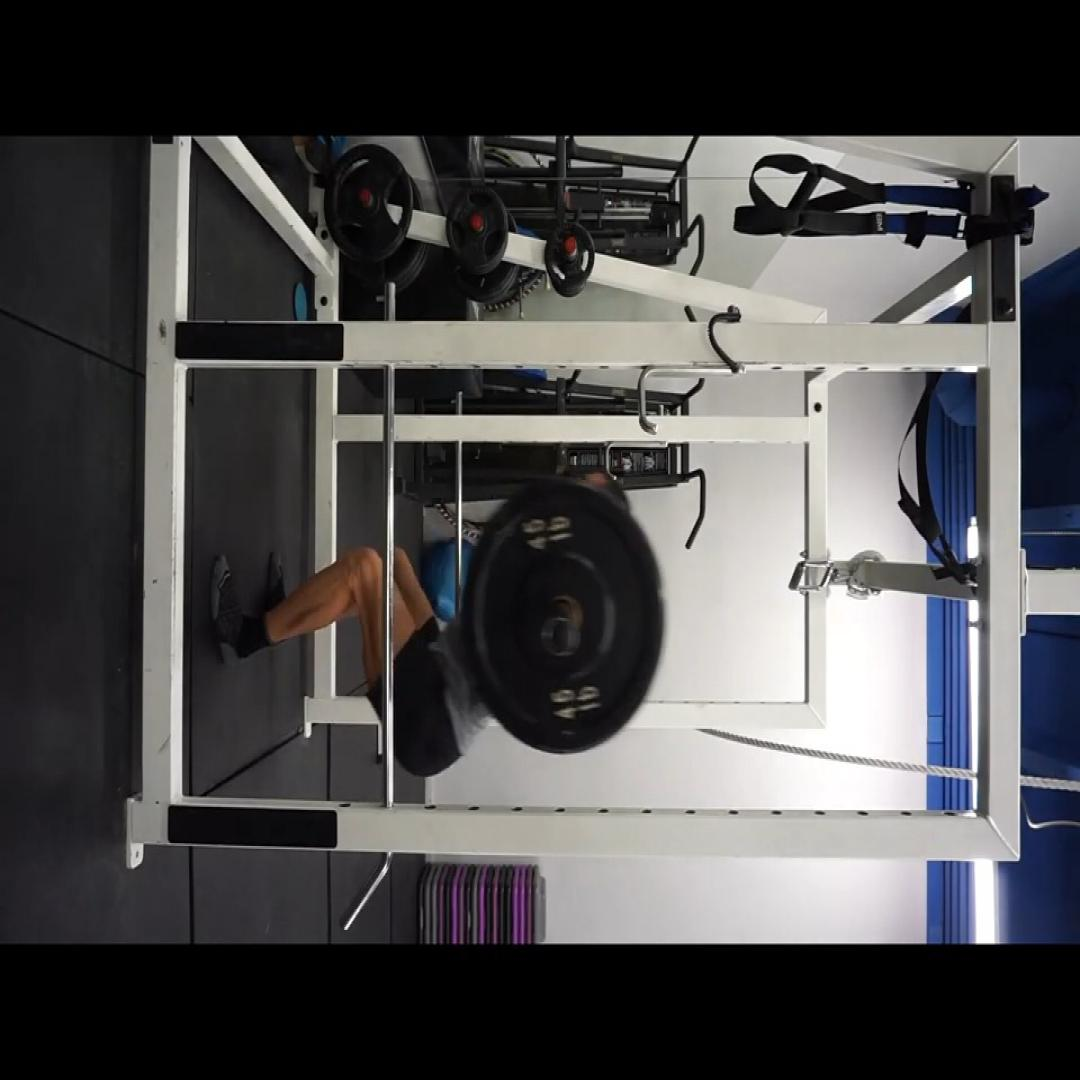Bar: (544, 616, 578, 659)
Barbell: (460, 480, 662, 754)
